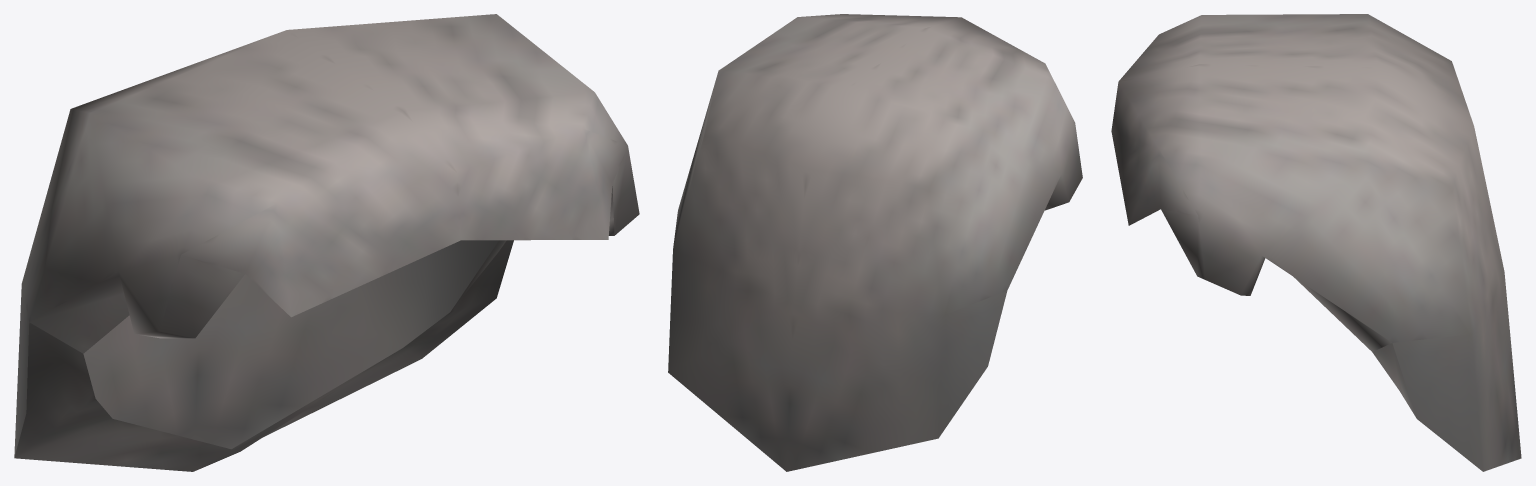
File: hair_male_03.fbx
3 renders of one model, left to right at view 1: azimuth 30°, elevation 25°; view 2: azimuth 150°, elevation 25°; view 3: azimuth 270°, elevation 25°, orthographic. The views are drawn at different scales.
Parts seen in each view (by area): view 1: hair_male_03; view 2: hair_male_03; view 3: hair_male_03.
Boxes of the visible parts, bbox=[...] form: hair_male_03: bbox=[14, 14, 639, 471]; hair_male_03: bbox=[668, 14, 1082, 471]; hair_male_03: bbox=[1111, 14, 1521, 471].
Size of the model in its own units: 6.72 by 6.66 by 6.28.
